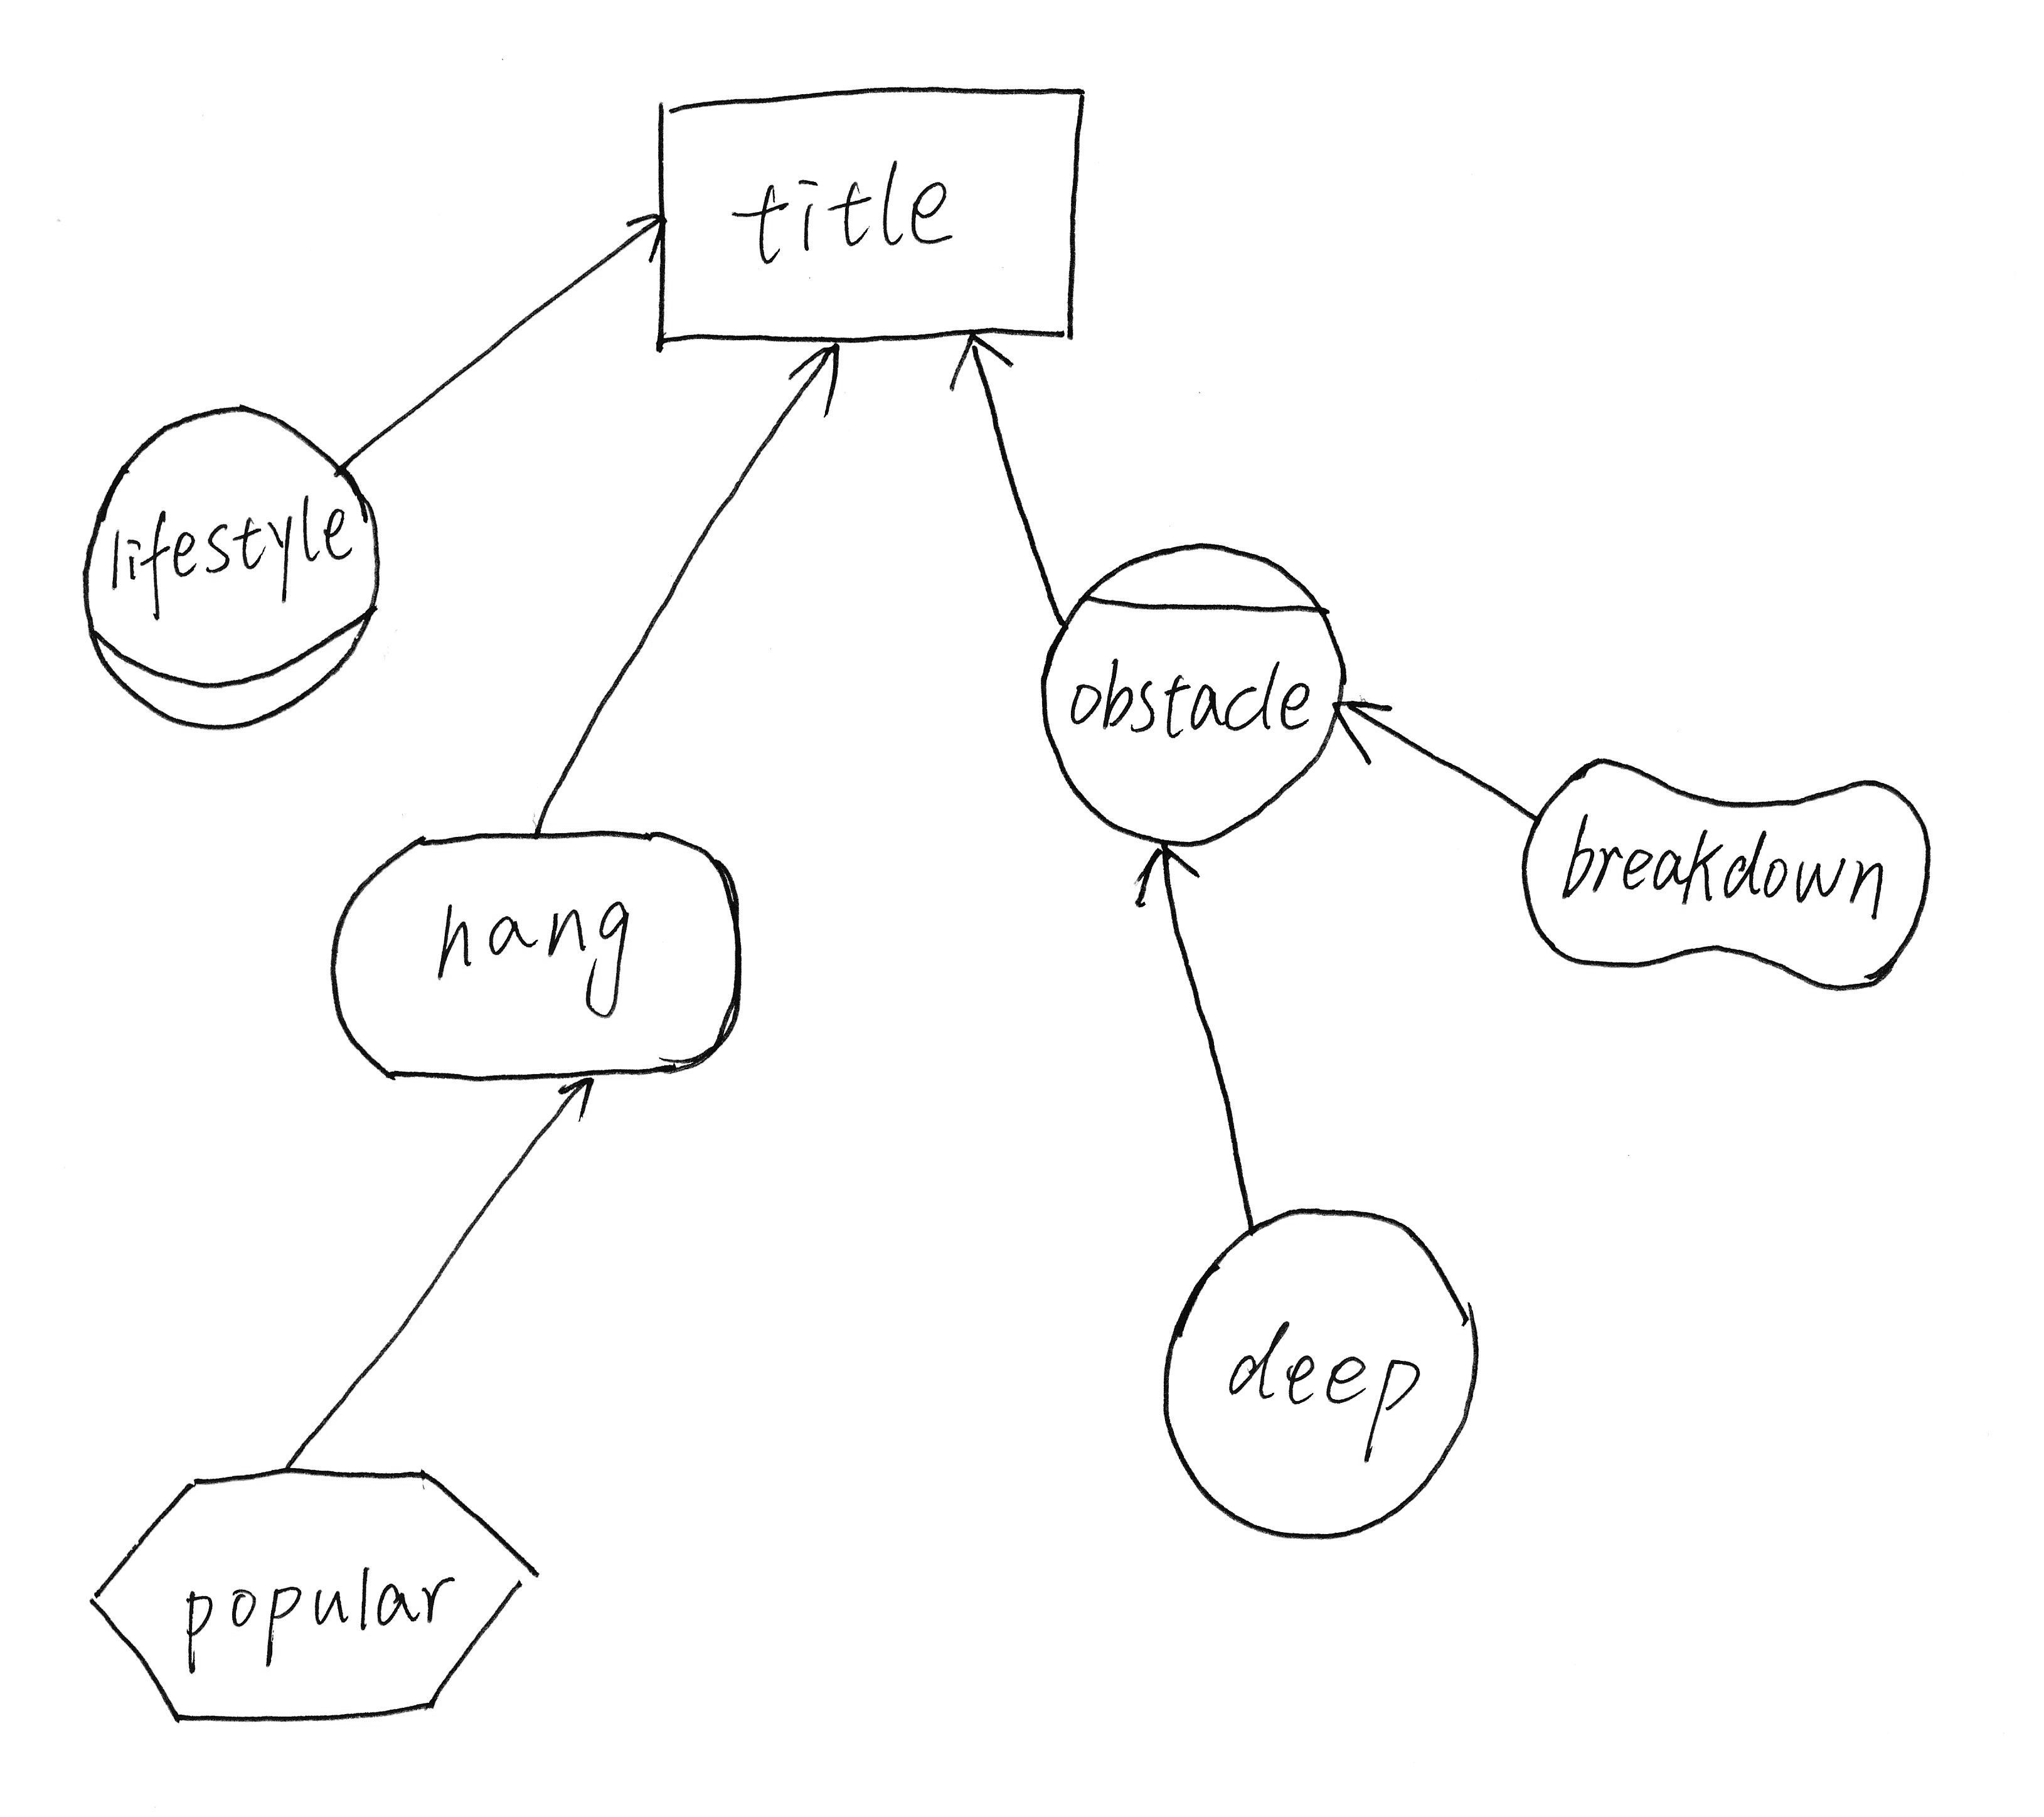actor: (1136, 1180, 1495, 1556)
agent: (1013, 516, 1378, 877)
arrow: (1315, 659, 1415, 782), (1113, 816, 1218, 924), (929, 309, 1036, 407), (777, 328, 859, 424), (614, 188, 691, 279), (533, 1054, 607, 1128)
goal: (317, 810, 773, 1103)
quality: (1495, 737, 1958, 1008)
resource: (622, 58, 1129, 382)
role: (53, 379, 401, 752)
task: (70, 1440, 564, 1754)
